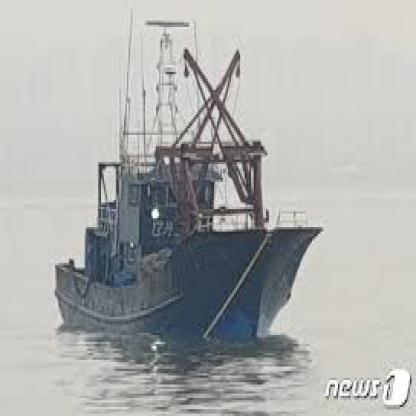fish-b: (41, 0, 329, 365)
